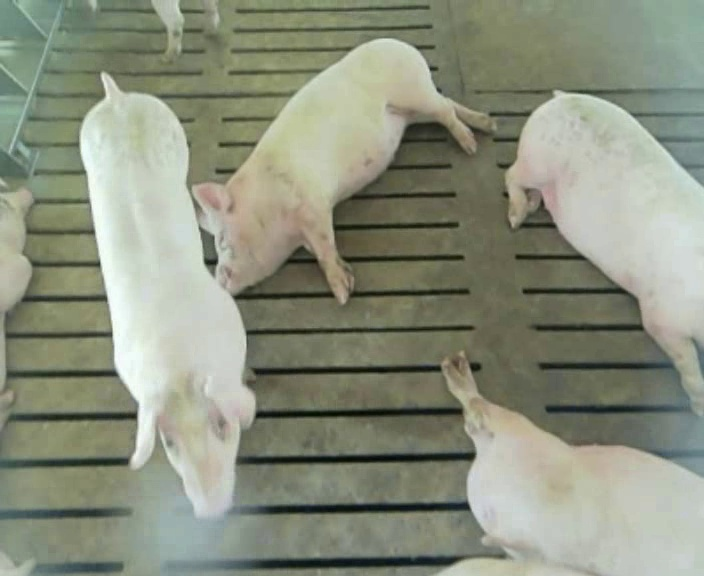pig: (193, 39, 493, 303), (80, 73, 255, 517), (506, 91, 703, 414)
